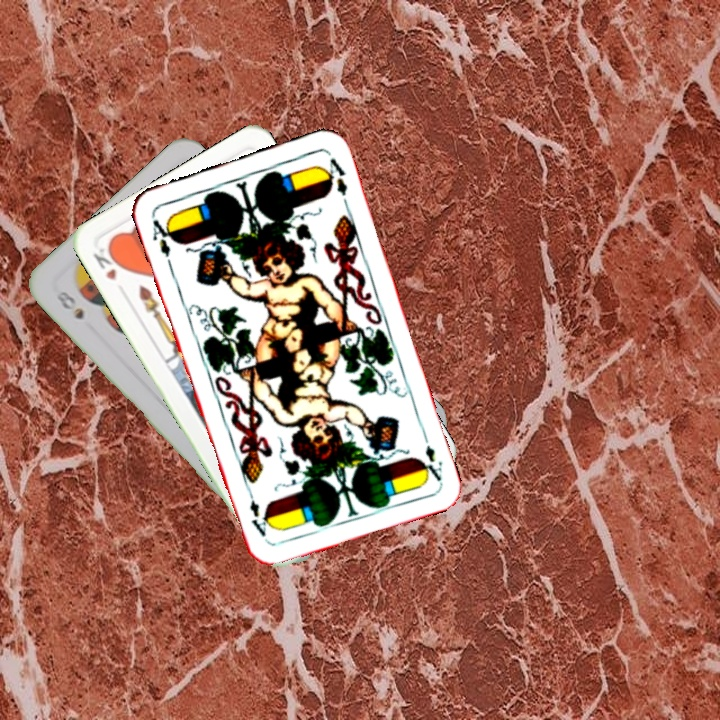EA: (416, 427, 445, 484), (148, 215, 177, 260)
HK: (89, 241, 125, 284)
S8: (52, 286, 87, 322)
